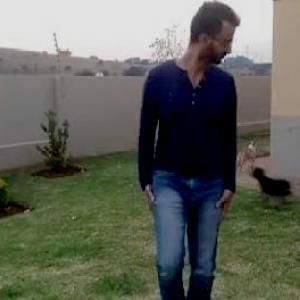follow: (141, 0, 243, 262)
